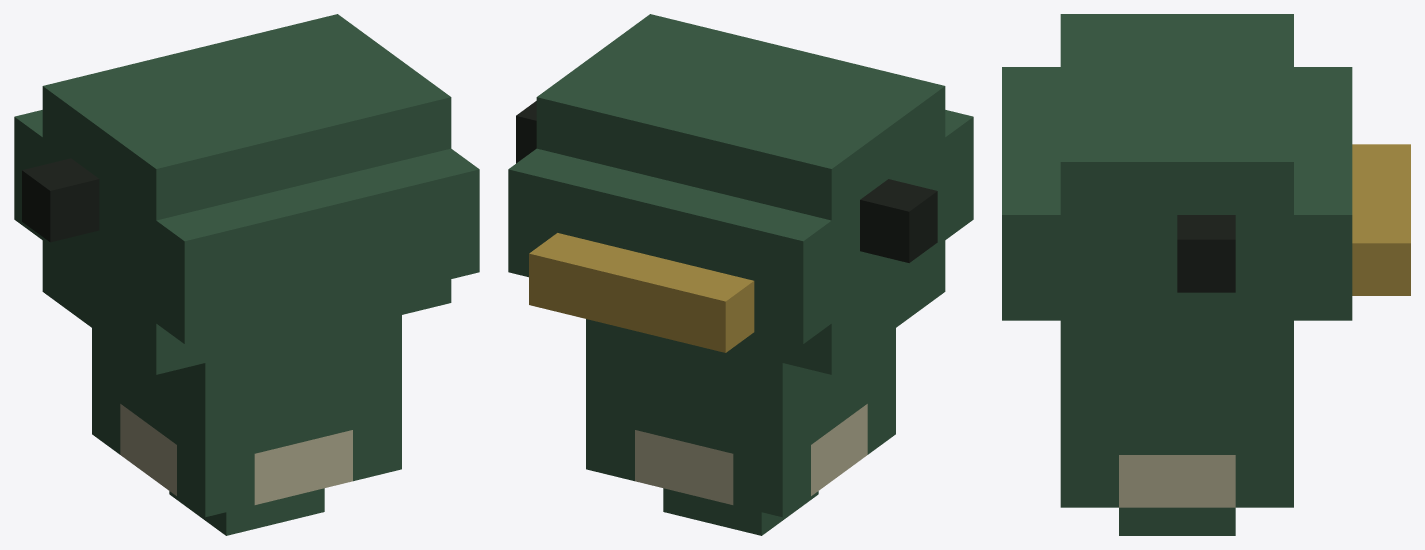
File: male_head.glb
The picture shows the model from 3 angles, left to right: view 1: azimuth 30°, elevation 25°; view 2: azimuth 150°, elevation 25°; view 3: azimuth 270°, elevation 25°; orthographic projection. The views are drawn at different scales.
Parts seen in each view (by area): view 1: VoxelVisual; view 2: VoxelVisual; view 3: VoxelVisual.
Boxes of the visible parts, x1,y1,x2,y2 form: VoxelVisual: (14,14,479,535); VoxelVisual: (508,14,973,535); VoxelVisual: (1002,14,1410,535).
Size of what is drawn, in the model's own units: 0.5 by 0.5 by 0.4375.
